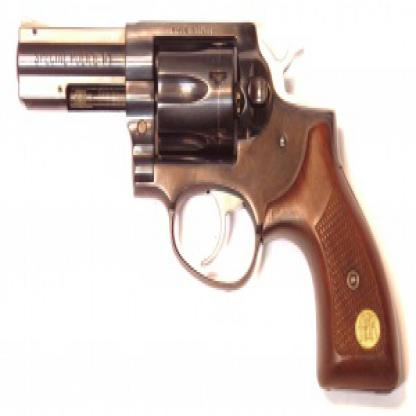Guns: (13, 9, 404, 394)
